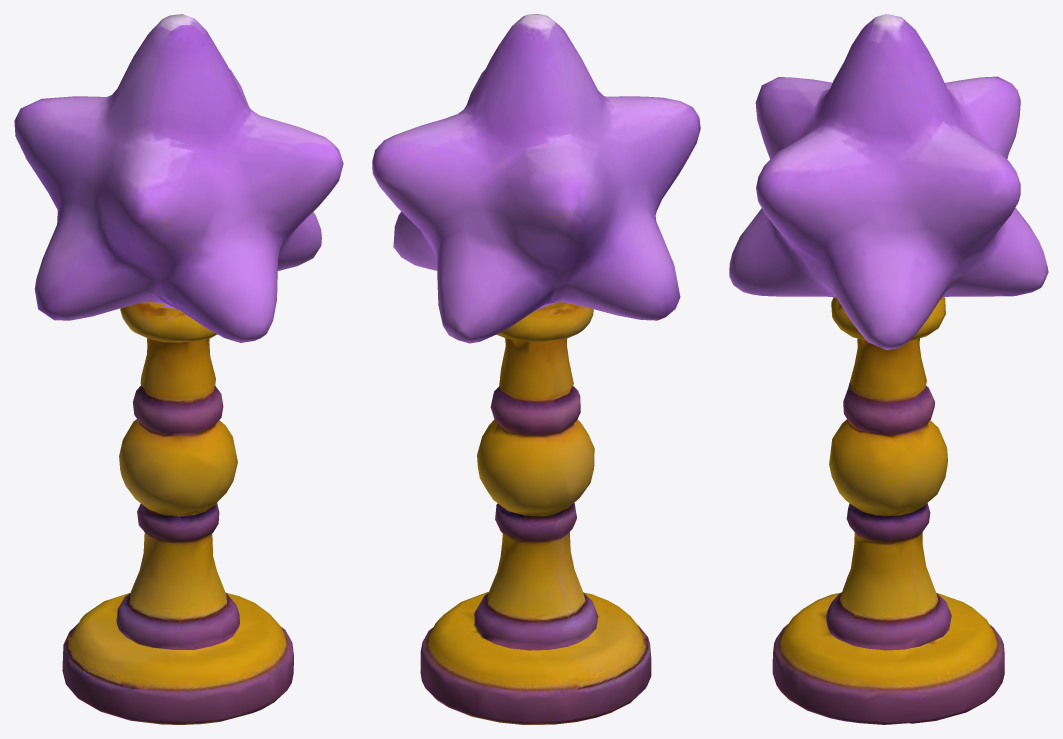
File: lamp_starlight.glb
3 renders of one model, left to right at view 1: azimuth 30°, elevation 25°; view 2: azimuth 150°, elevation 25°; view 3: azimuth 270°, elevation 25°, orthographic.
Visible parts, largest first — view 1: textured_mesh.obj; view 2: textured_mesh.obj; view 3: textured_mesh.obj.
Boxes of the visible parts, x1,y1,x2,y2 form: textured_mesh.obj: (14,14,343,724); textured_mesh.obj: (372,14,700,724); textured_mesh.obj: (729,14,1048,724).
Size of what is drawn, in the model's own units: 0.7038 by 1.6 by 0.6989.
1 material, 1 textured.
